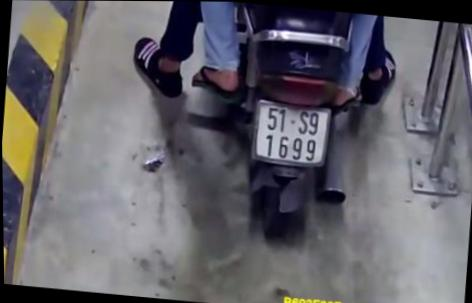LP: (252, 98, 332, 166)
